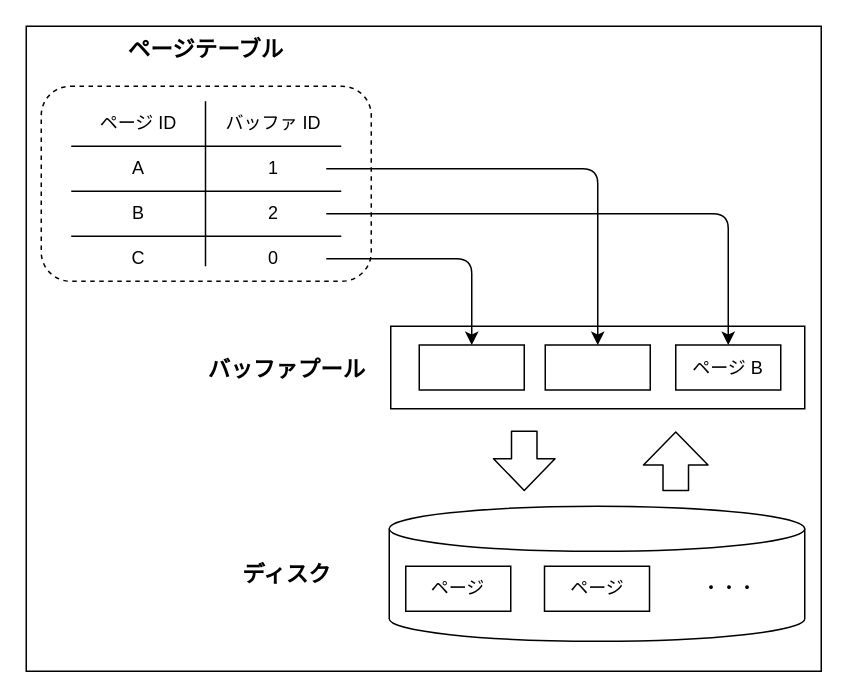
Image size: 848x698. Some labels were removed from this diagram. The centre of each missing label's shape, as x and y in pixels:
ページ A: the point at 597,367
ページ C: the point at 471,367
